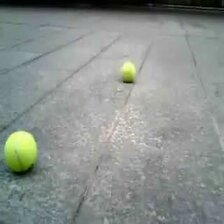tennis: (4, 132, 37, 170), (120, 62, 136, 80)
